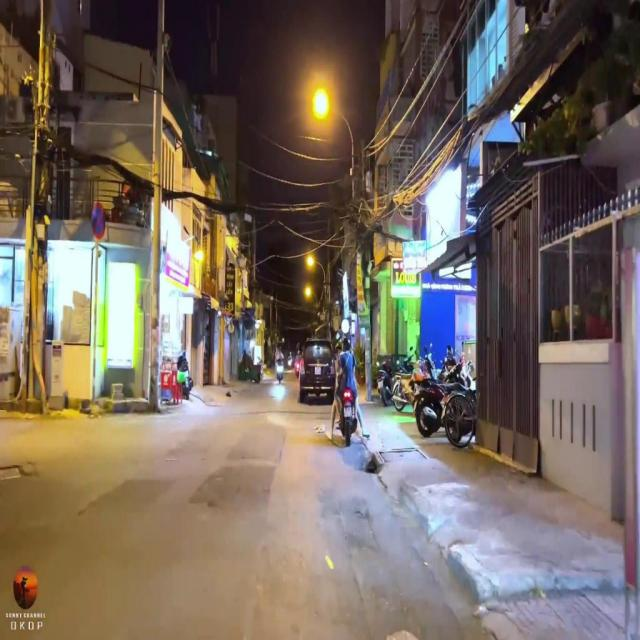cam_dung_xe_va_do_xe: (91, 202, 106, 240)
